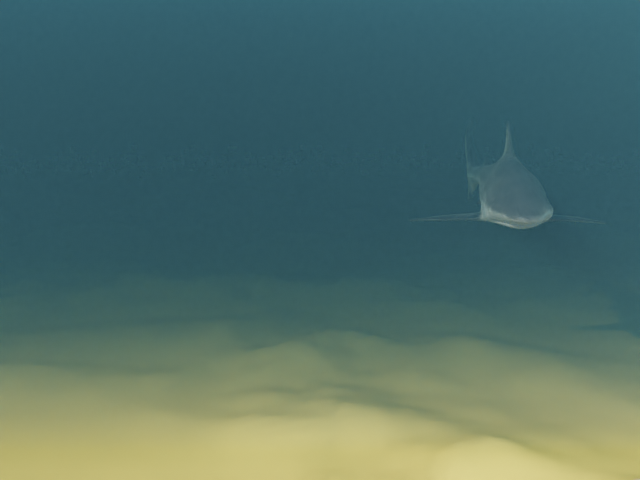Carribean Shark.001: (408, 119, 606, 228)
